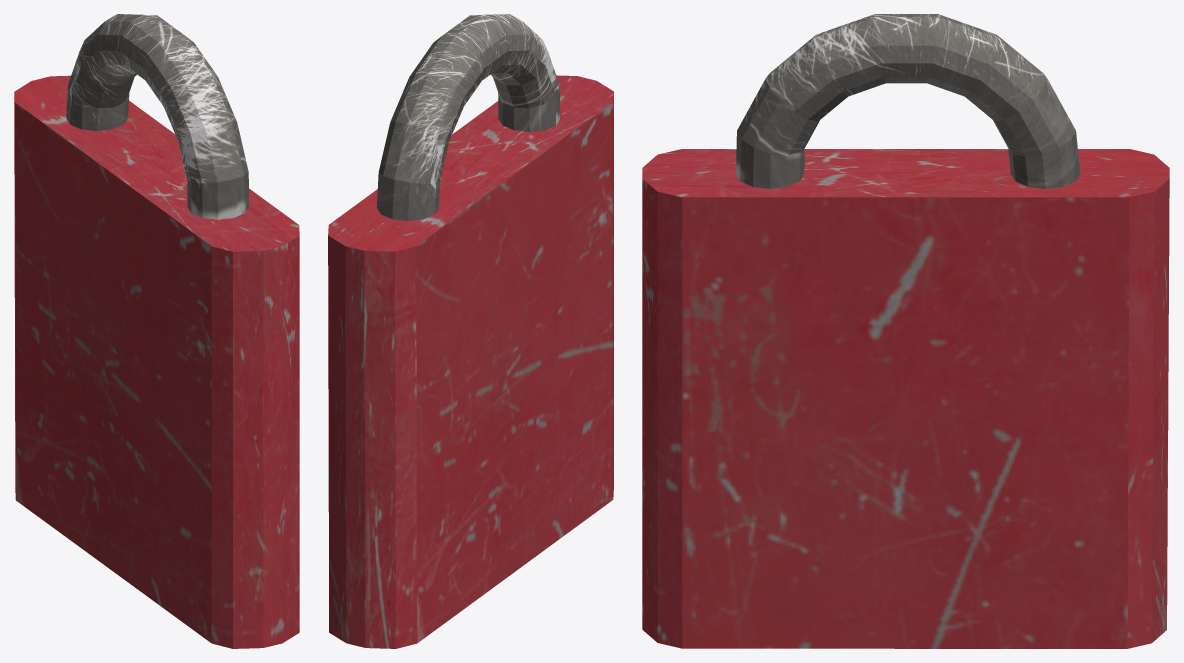
The model's file is SimplePadlock.fbx.
The picture shows the model from 3 angles, left to right: view 1: azimuth 30°, elevation 25°; view 2: azimuth 150°, elevation 25°; view 3: azimuth 270°, elevation 25°; orthographic projection. The views are drawn at different scales.
Visible parts, largest first — view 1: MainPart, Handle; view 2: MainPart, Handle; view 3: MainPart, Handle.
Boxes of the visible parts, box(x1,y1,x2,y2) form: MainPart: box(14, 75, 299, 648); Handle: box(66, 14, 249, 219); MainPart: box(328, 75, 613, 648); Handle: box(376, 14, 559, 220); MainPart: box(642, 149, 1169, 648); Handle: box(736, 14, 1080, 188).
Size of the model in its own units: 0.4869 by 2.85 by 2.24.
